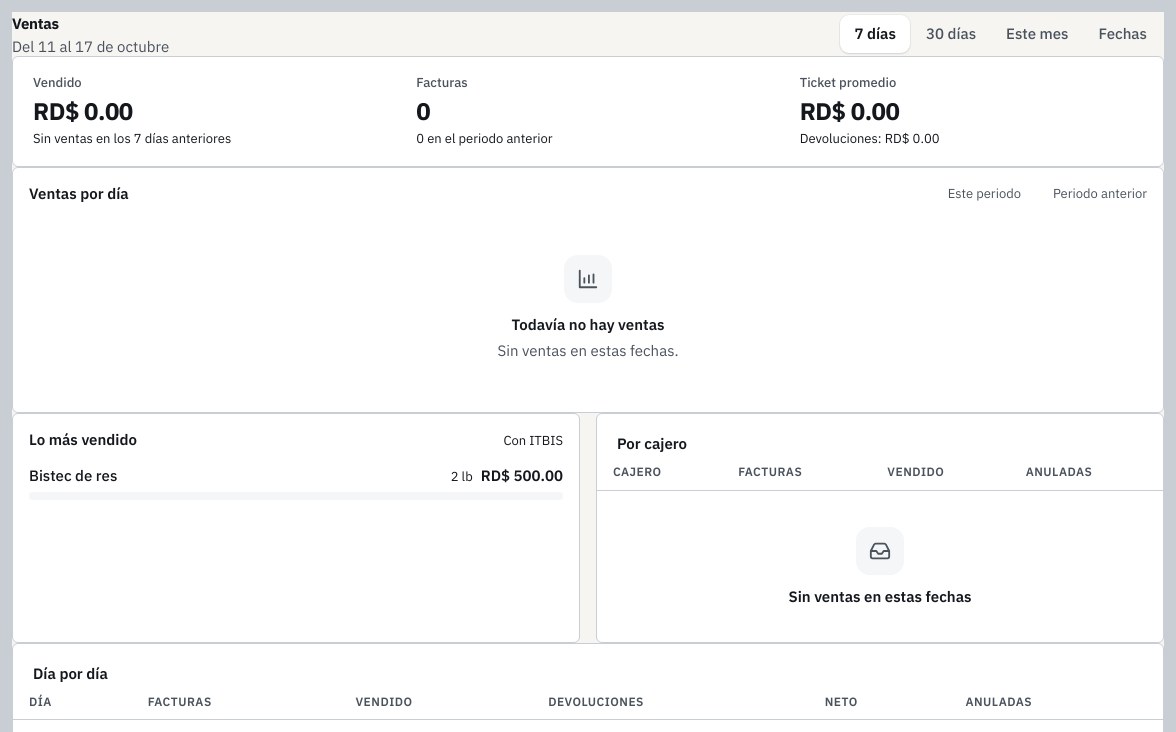
it: R13: a range longer than 92 days says the top products cover only its last 92
The image size is (1176, 732).
Check: the text "Bistec de res" is shown, box [29,466,117,485]
Step 1. Click the button "Fechas" → (1123, 34), box [1084,15,1161,53]
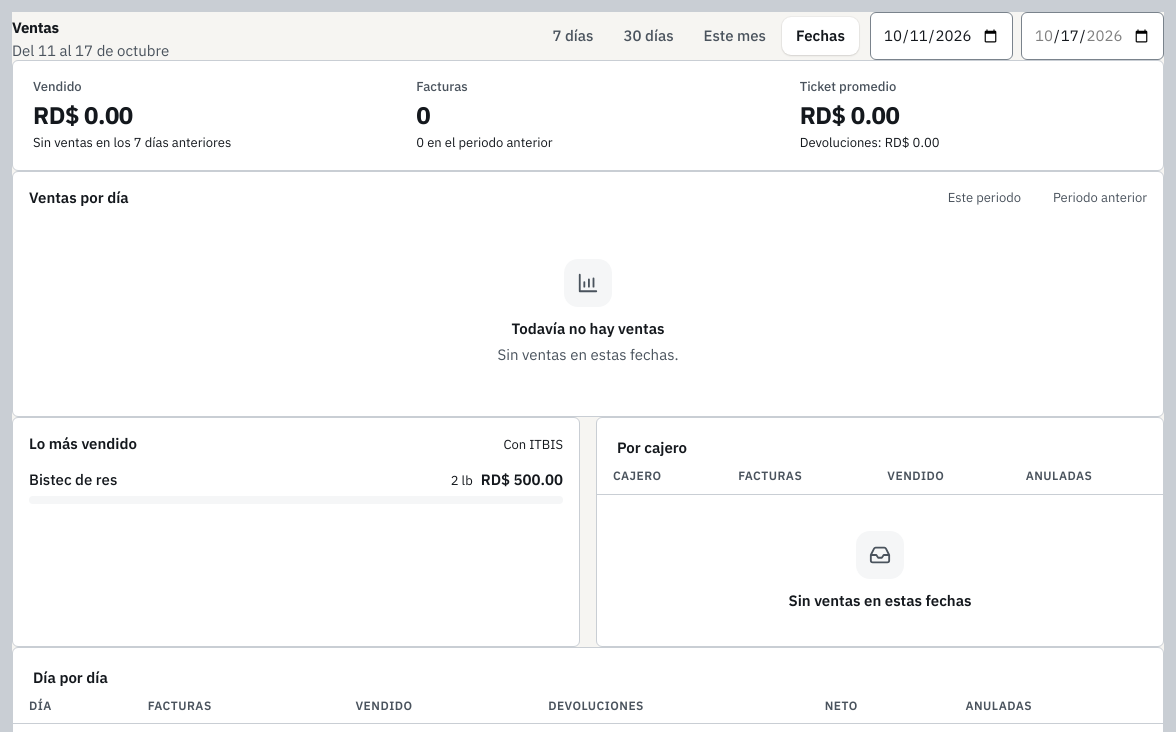
Step 2. Type "2025-01-01" into the date field named "Desde" → (942, 36), box [870,12,1013,60]
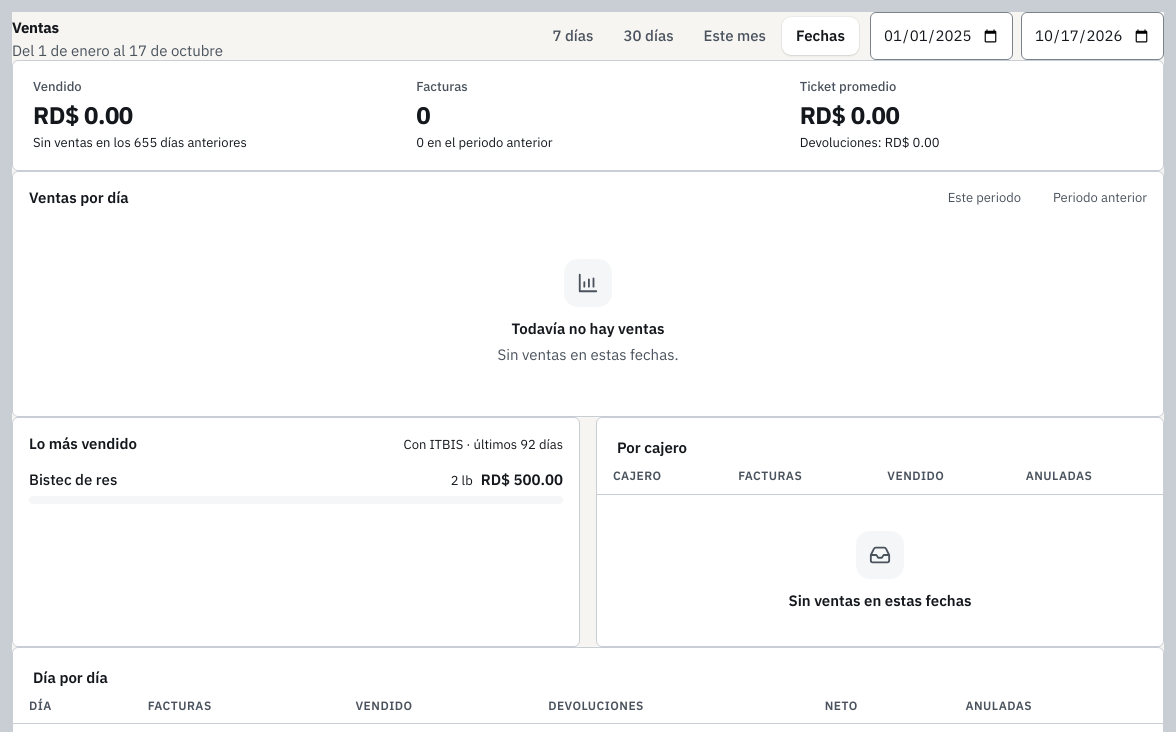
Check: the text "Con ITBIS · últimos 92 días" is shown, box [404,438,563,454]
